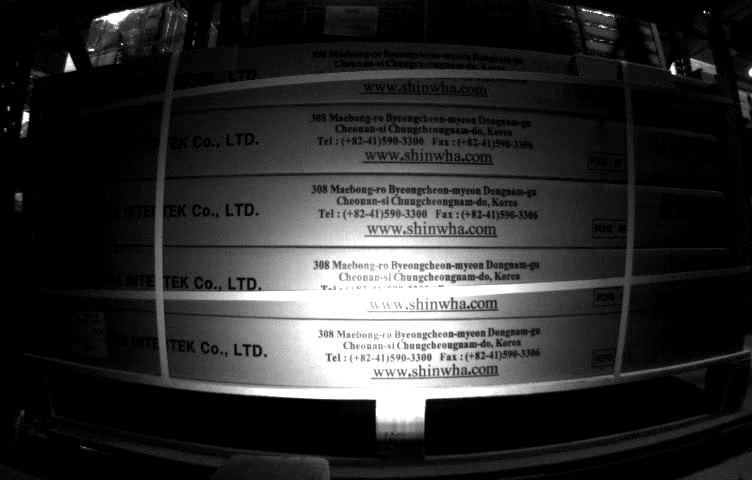True Barcode: (58, 312, 106, 359)
